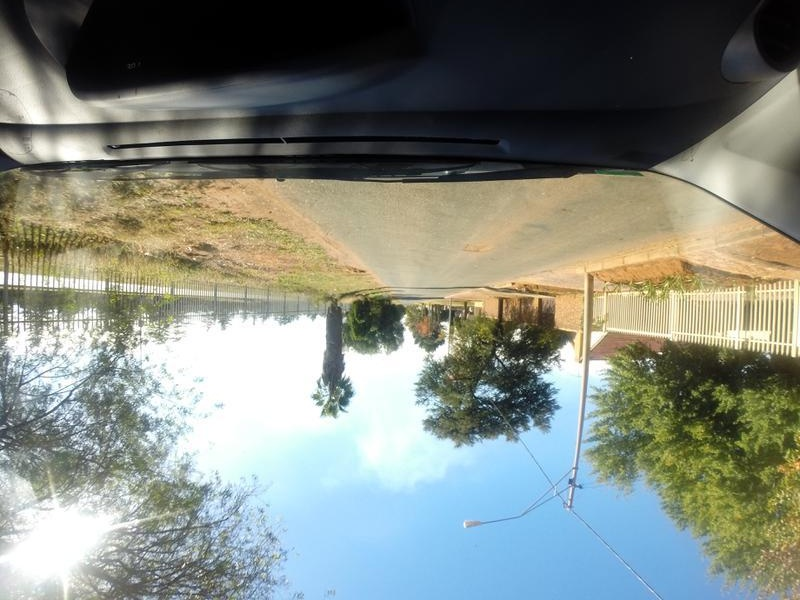pothole: (460, 226, 496, 260)
